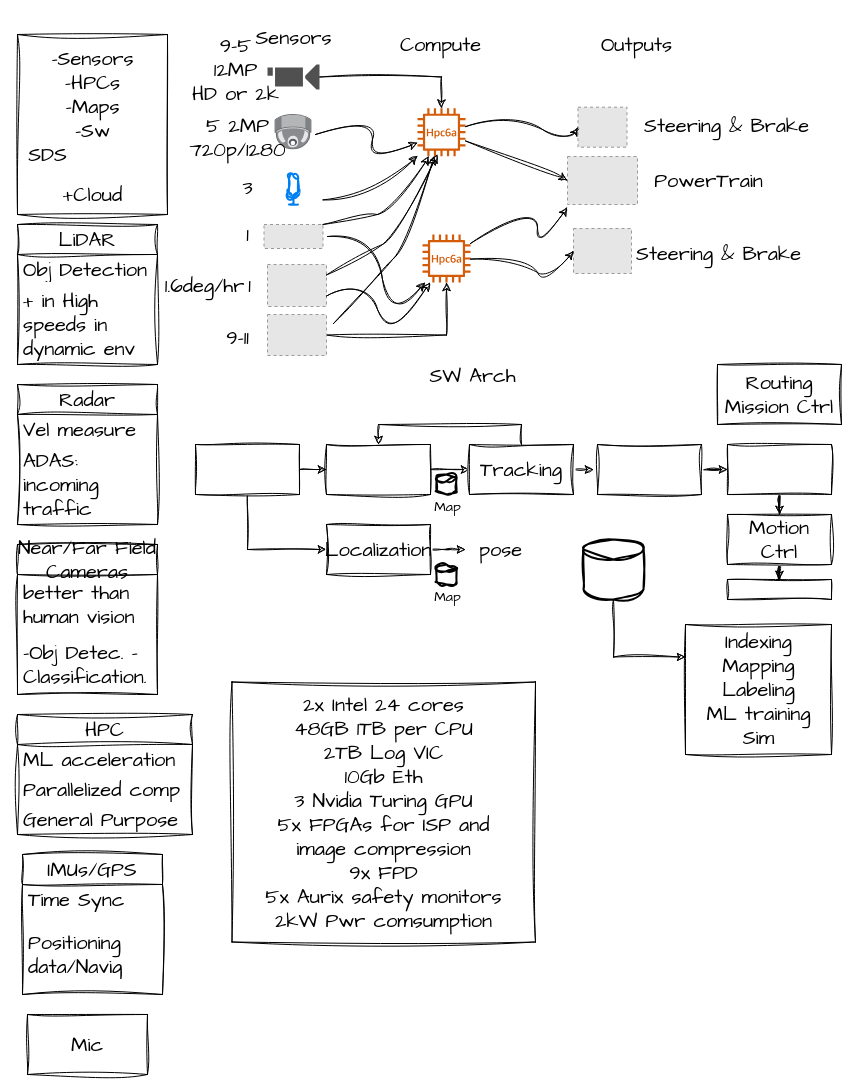
Image size: 859x1092. Some labels were removed from this diagram. Grey dashed boxes stand in for pictures. Here are the shapes that lost their labels. From the top down, the centre of each, then its label:
point (247, 469): Sensor Processing
point (378, 469): Detection Pipelines
point (649, 469): Prediction
point (779, 469): Motion Planning
point (613, 569): Logs
point (779, 589): OEM
